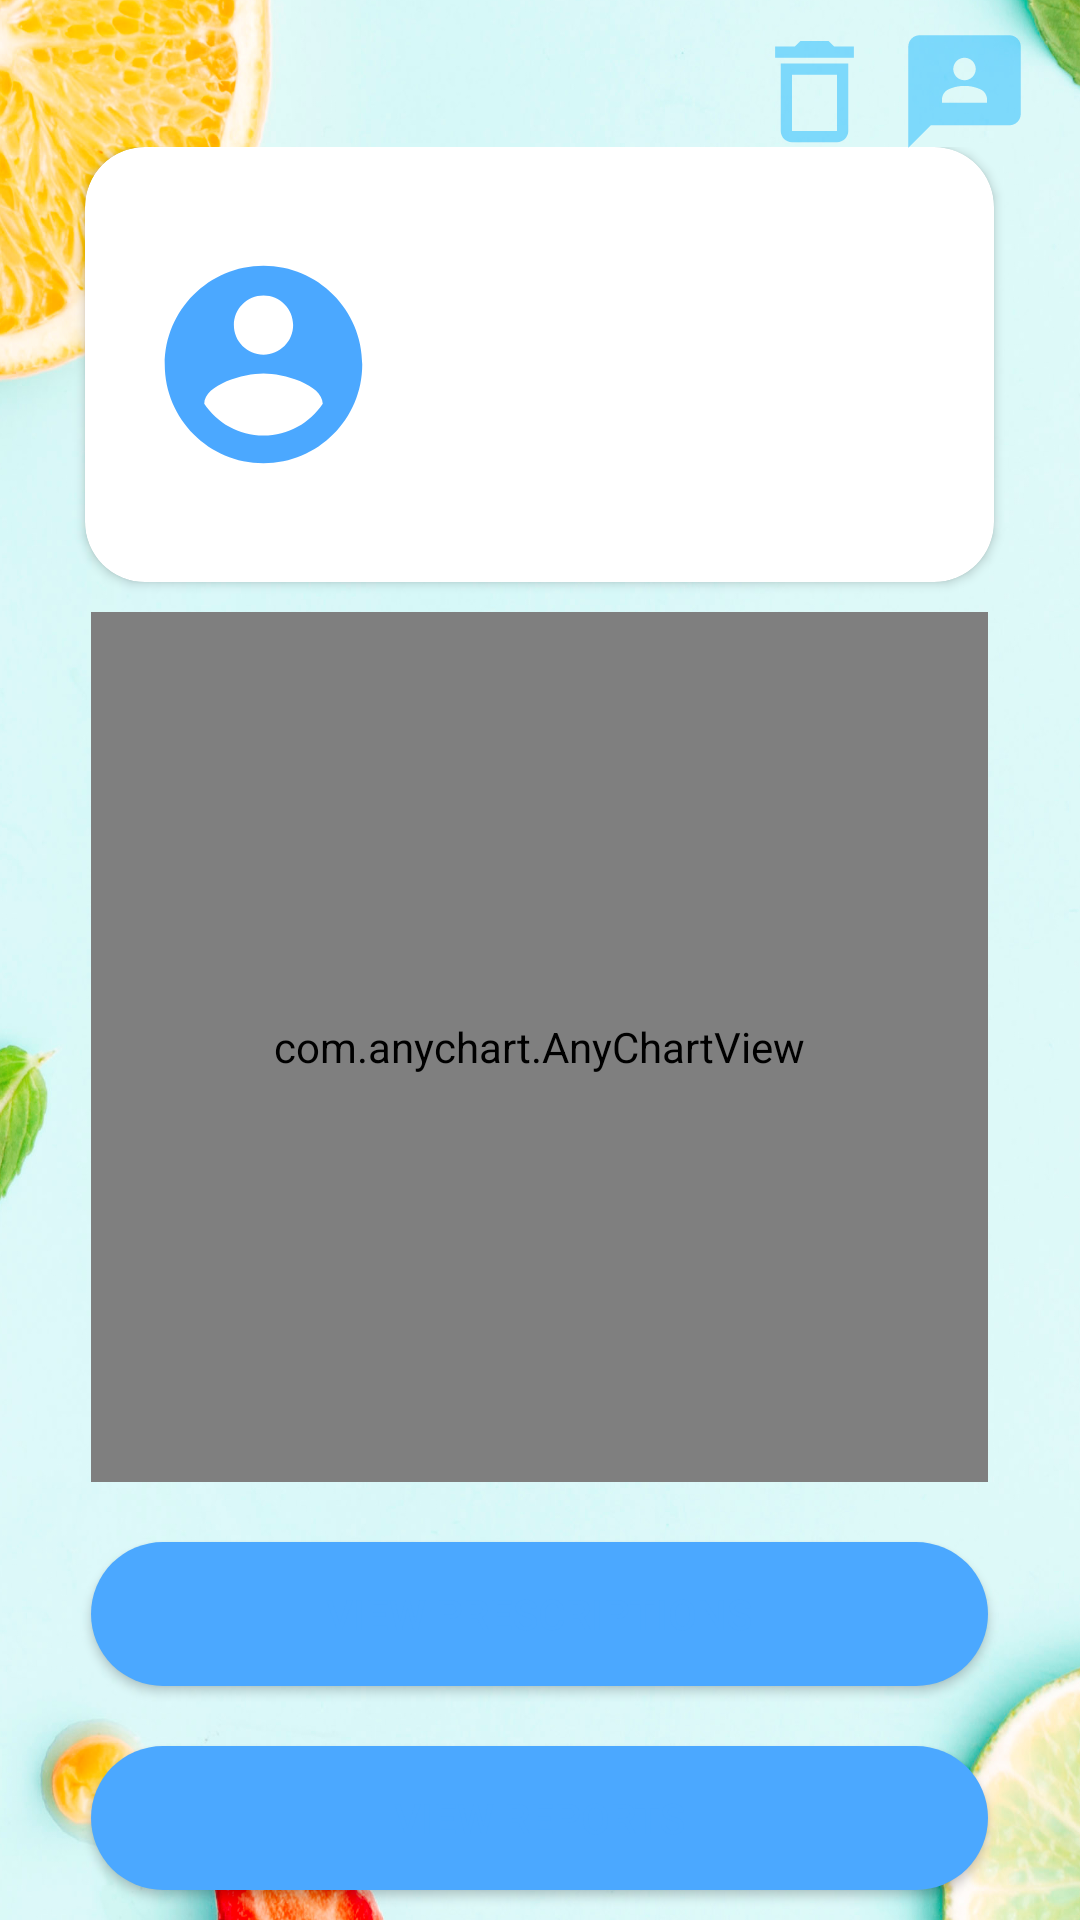

Icons on this 1080×1920 Android screen, each with its box as (x1, y1, x2, y2):
account circle: (164, 265, 363, 464)
chaaticon: (897, 24, 1032, 159)
delete: (775, 41, 854, 143)
